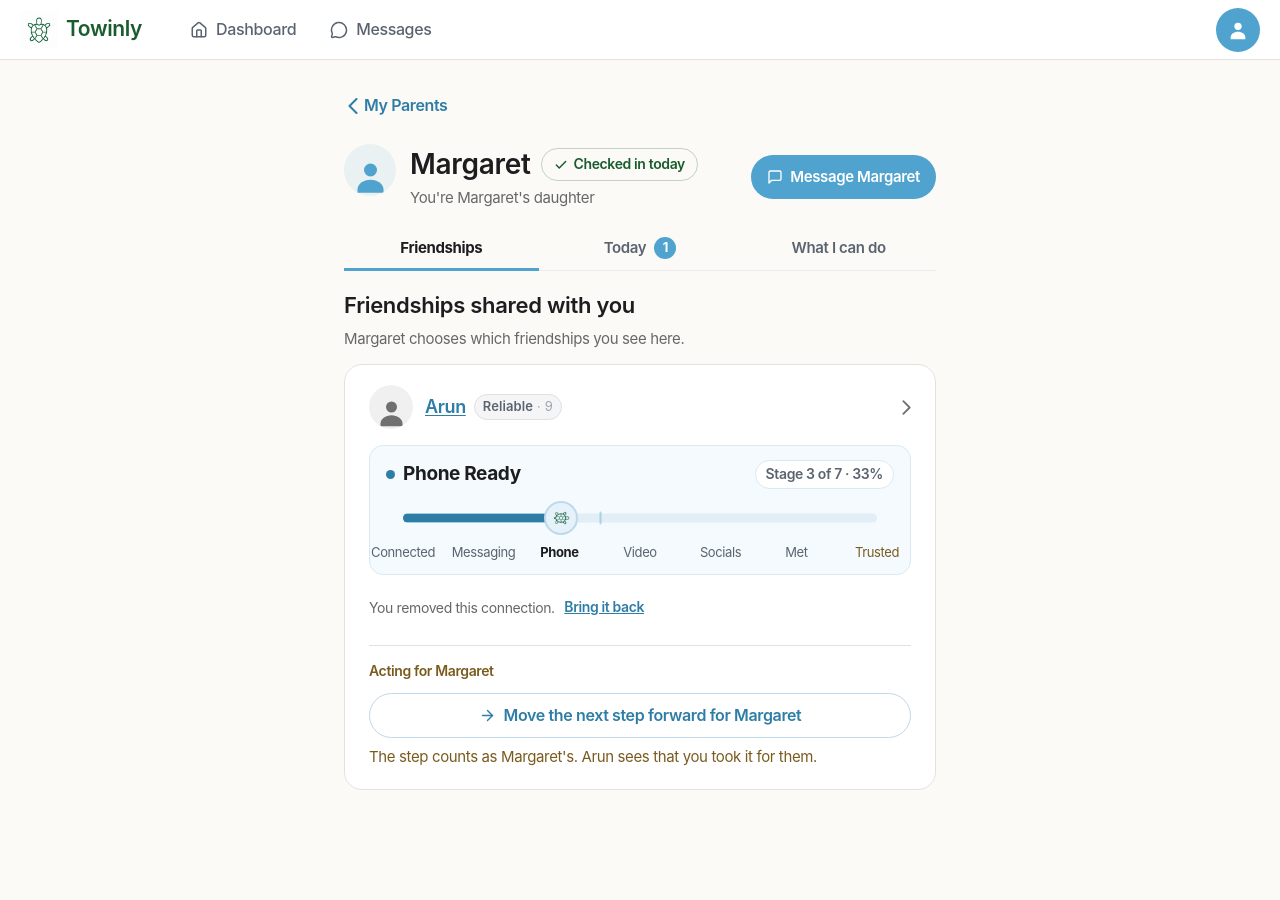
Test case: FamilyParent — guardian mode actions › puts the doing beside the friendship it acts on, marked as done for the parent
Expected: the text "Acting for Margaret" is shown, [369,662,494,679]
Expected: the button "Move the next step forward for Margaret" is shown, [369,693,911,738]
Click the tab "Today 1". click: (640,249)
box: [543,227,737,271]
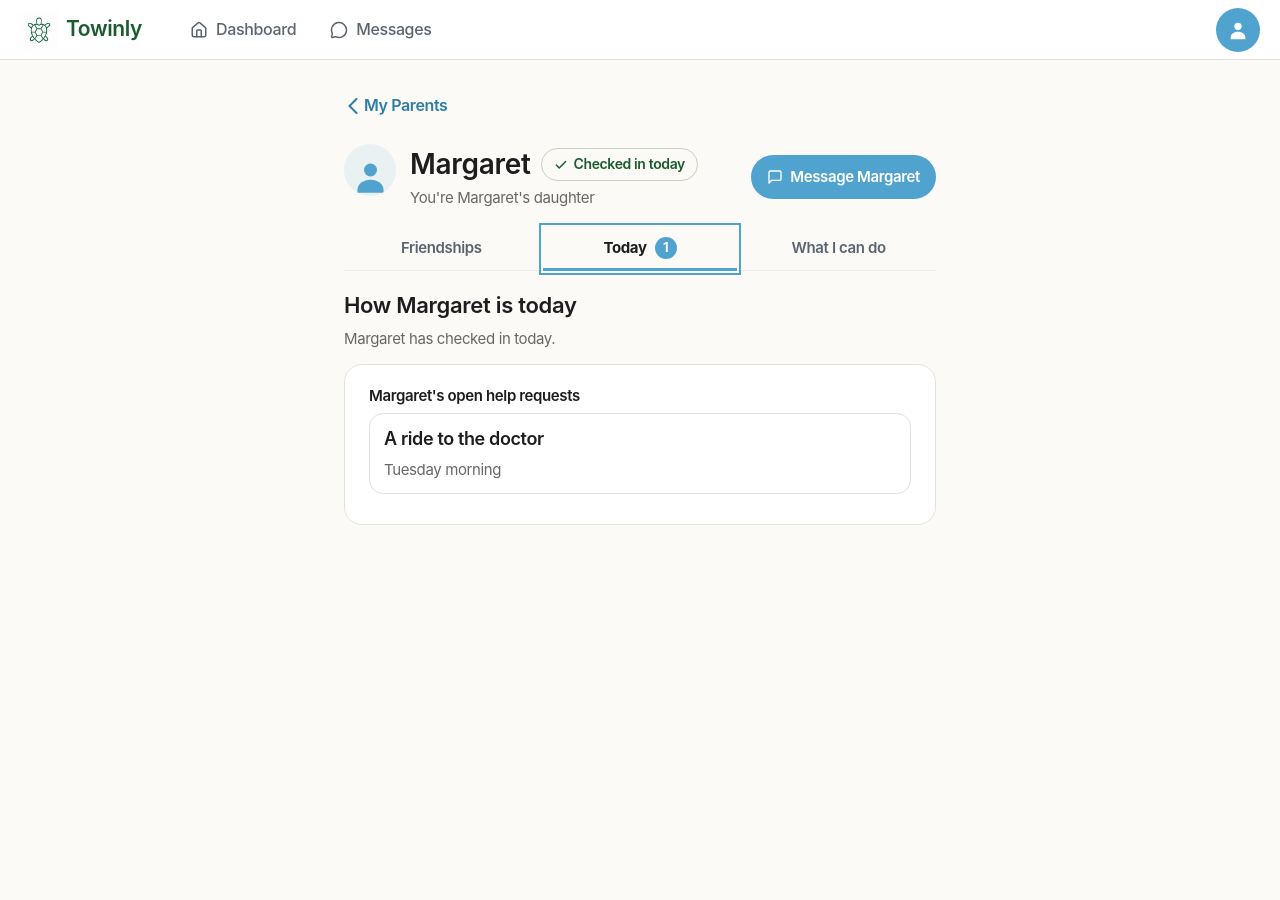
Result: the heading "How Margaret is today" is shown at [344,292,577,318]
